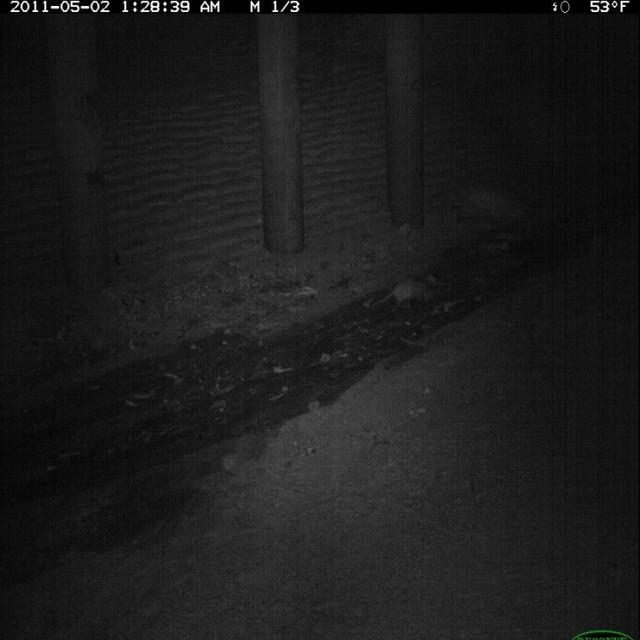opossum: (371, 275, 440, 315)
